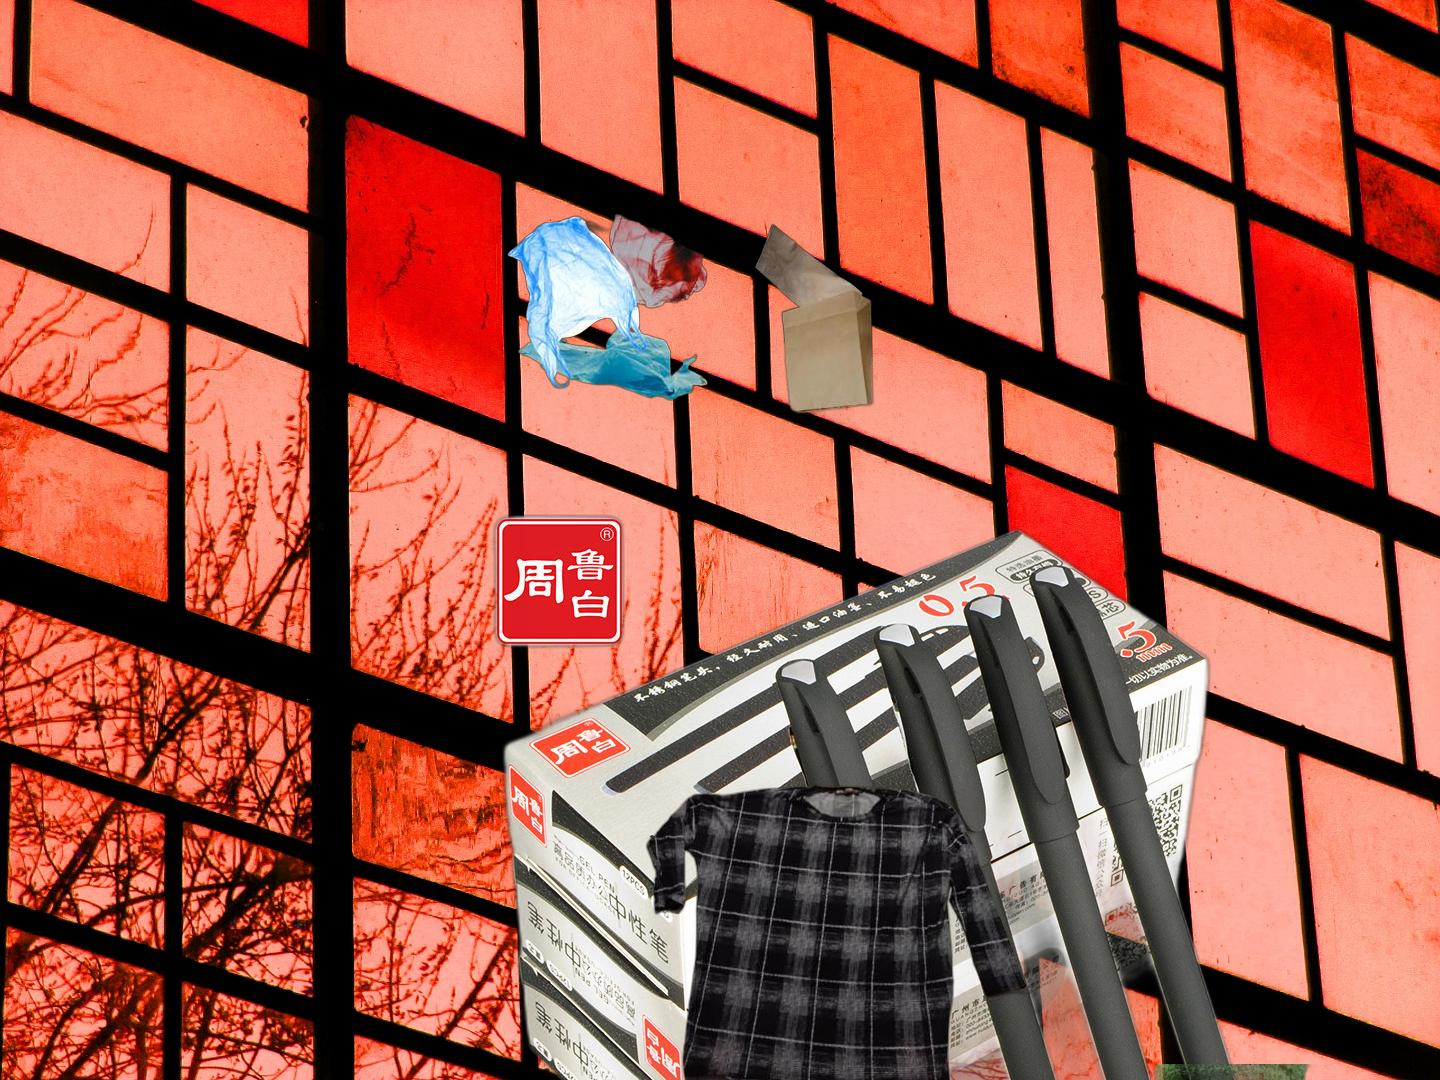biological: (1123, 1064, 1337, 1080)
clothes: (643, 781, 1030, 1080)
paper-bag: (671, 201, 892, 453)
penholder: (478, 503, 1257, 1080), (374, 940, 1440, 1080)
plastic-bag: (503, 212, 709, 403)
